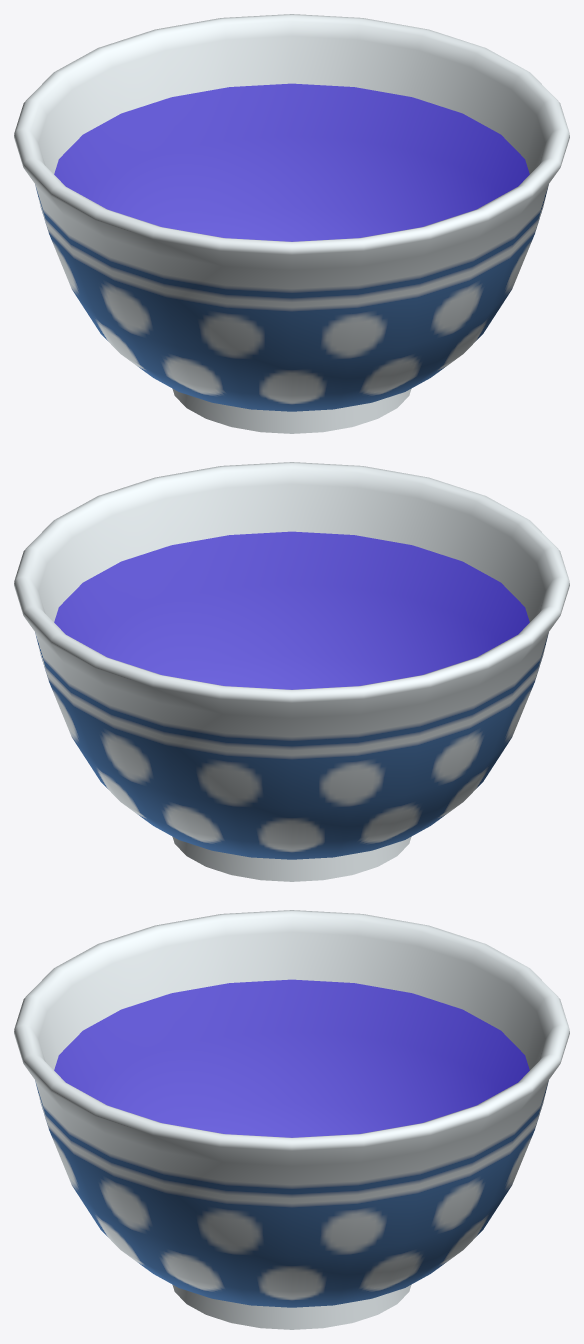
Rendered from 飲み物_汲出.fbx.
The picture shows the model from 3 angles, top to bottom: view 1: azimuth 30°, elevation 25°; view 2: azimuth 150°, elevation 25°; view 3: azimuth 270°, elevation 25°; orthographic projection.
Visible parts, largest first — view 1: 汲出, 液面; view 2: 汲出, 液面; view 3: 汲出, 液面.
Part boxes in pixels (bbox=[...]): 汲出: bbox=[14, 14, 569, 433]; 液面: bbox=[54, 83, 529, 241]; 汲出: bbox=[14, 462, 569, 881]; 液面: bbox=[54, 531, 529, 689]; 汲出: bbox=[14, 910, 569, 1329]; 液面: bbox=[54, 979, 529, 1137].
Size of the model in its own units: 8.23 by 4.15 by 8.23.
2 materials, 1 textured.
